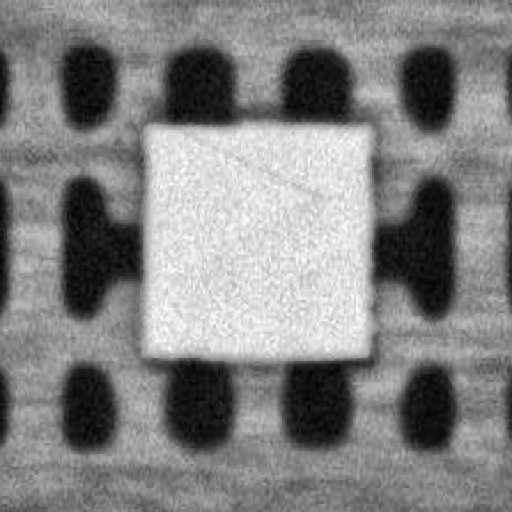DIE_CRACK: (274, 87, 486, 131)
